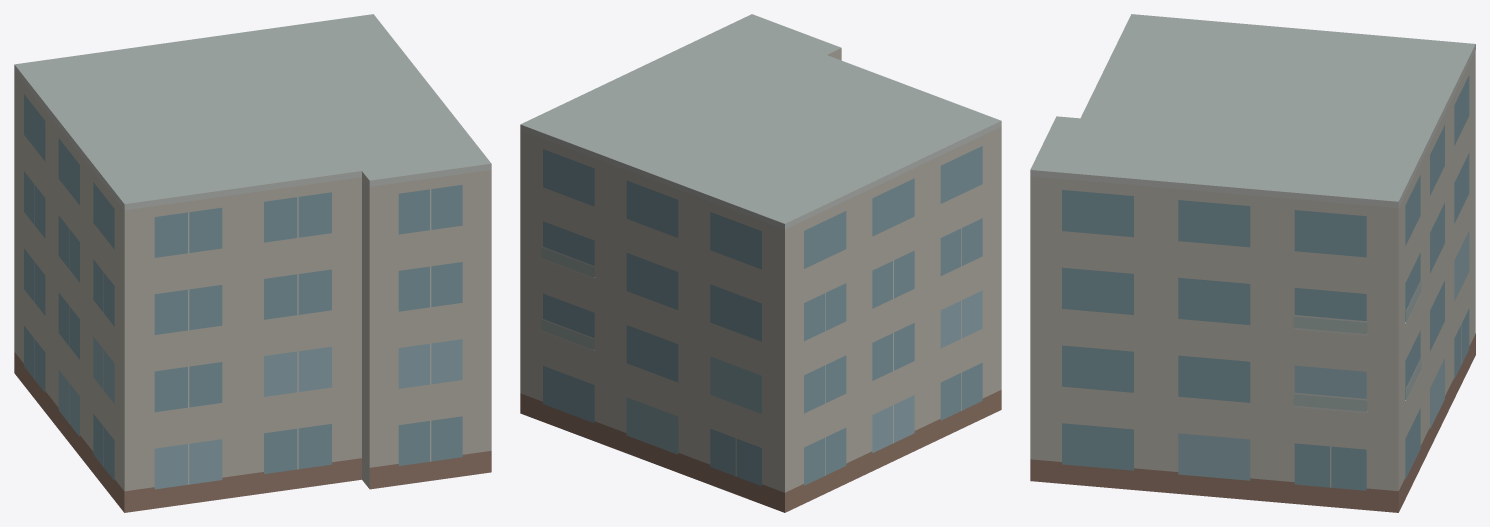
File: survey-upis-32806527.glb
3 renders of one model, left to right at view 1: azimuth 30°, elevation 25°; view 2: azimuth 150°, elevation 25°; view 3: azimuth 270°, elevation 25°, orthographic. The views are drawn at different scales.
Parts seen in each view (by area): view 1: survey-upis-32806527.tmp; view 2: survey-upis-32806527.tmp; view 3: survey-upis-32806527.tmp.
Part boxes in pixels (x1,y1,x2,y2): survey-upis-32806527.tmp: (14,14,491,512); survey-upis-32806527.tmp: (520,14,1001,512); survey-upis-32806527.tmp: (1030,14,1475,512).
Bounding box in the file's own units: 15.8 × 12.2 × 15.84.
